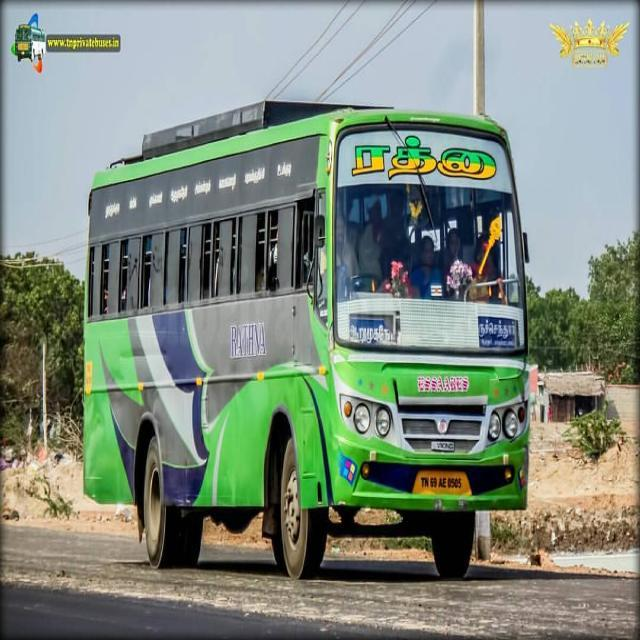Bus: (82, 96, 530, 584)
